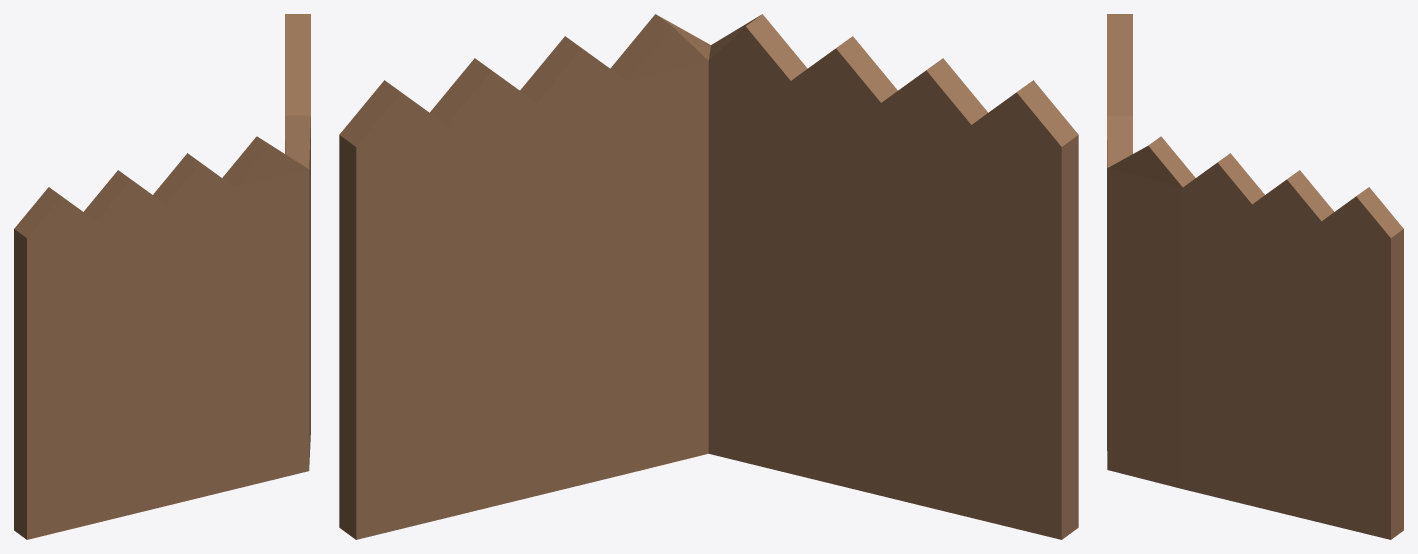
The model's file is fence2.fbx.
3 views of the same model, side by side, from view 1: azimuth 30°, elevation 25°; view 2: azimuth 150°, elevation 25°; view 3: azimuth 270°, elevation 25° (orthographic). The views are drawn at different scales.
Parts seen in each view (by area): view 1: Cylinder; view 2: Cylinder; view 3: Cylinder.
Boxes of the visible parts, box(x1,y1,x2,y2) form: Cylinder: box(14, 14, 310, 539); Cylinder: box(339, 14, 1078, 539); Cylinder: box(1107, 14, 1403, 539).
Bounding box in the file's own units: 1.33 × 1 × 0.8025.
